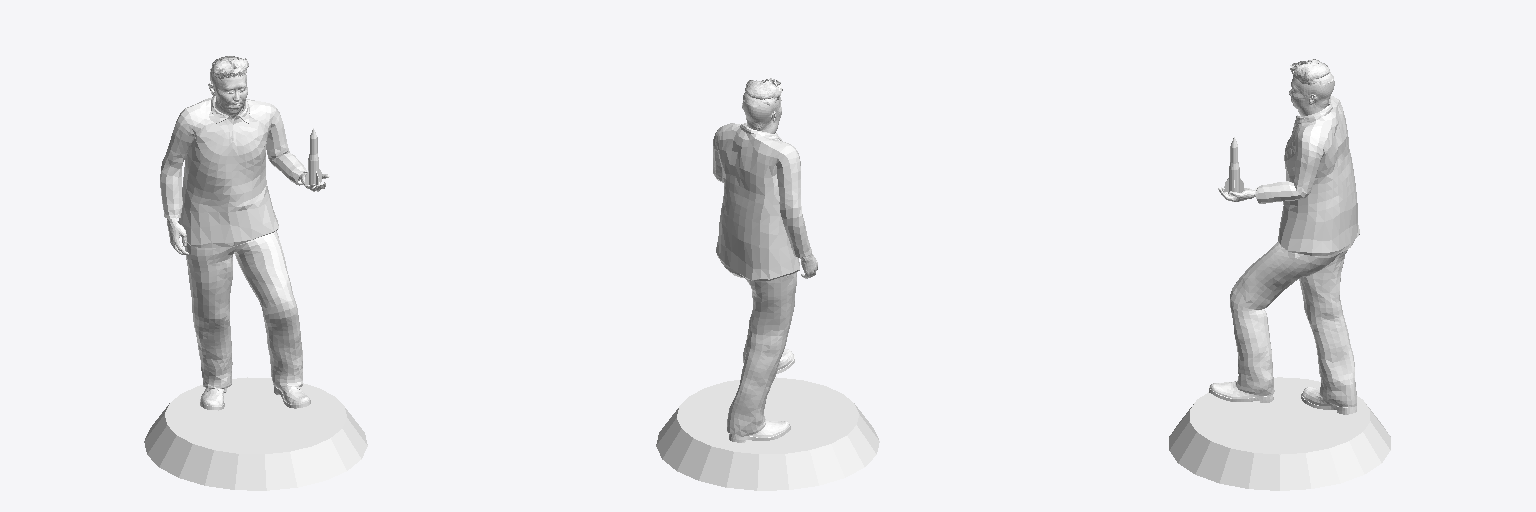
The model's file is kimjongun.obj.
The picture shows the model from 3 angles: view 1: azimuth 30°, elevation 25°; view 2: azimuth 150°, elevation 25°; view 3: azimuth 270°, elevation 25°; orthographic projection.
Parts seen in each view (by area): view 1: Cône, Tops, Bottoms, Body, Shoes, hands, Hair, missile; view 2: Cône, Tops, Bottoms, Body, Shoes, Hair; view 3: Cône, Bottoms, Tops, Shoes, Body, Hair, missile.
Part boxes in pixels (bbox=[...]): Cône: bbox=[144, 377, 367, 490]; Tops: bbox=[160, 96, 306, 247]; Bottoms: bbox=[185, 231, 302, 388]; Body: bbox=[208, 59, 247, 120]; Shoes: bbox=[200, 383, 310, 410]; hands: bbox=[167, 173, 329, 255]; Hair: bbox=[210, 56, 248, 80]; missile: bbox=[305, 128, 321, 185]; Cône: bbox=[656, 377, 879, 490]; Tops: bbox=[713, 123, 811, 280]; Bottoms: bbox=[727, 269, 796, 436]; Body: bbox=[742, 92, 781, 133]; Shoes: bbox=[729, 349, 794, 442]; Hair: bbox=[743, 78, 782, 106]; Cône: bbox=[1169, 377, 1390, 490]; Bottoms: bbox=[1230, 241, 1356, 406]; Tops: bbox=[1255, 96, 1359, 255]; Shoes: bbox=[1209, 380, 1356, 414]; Body: bbox=[1289, 73, 1334, 115]; Hair: bbox=[1290, 59, 1333, 87]; missile: bbox=[1224, 137, 1243, 192].
Bounding box in the file's own units: 105 × 194 × 104.